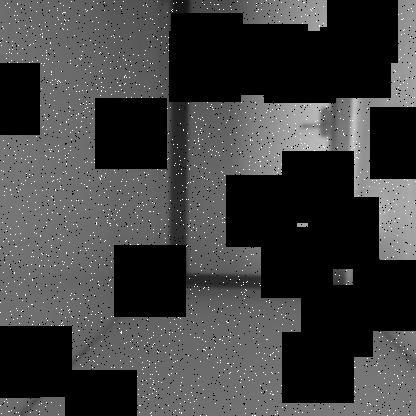Porte: (165, 0, 358, 291)
